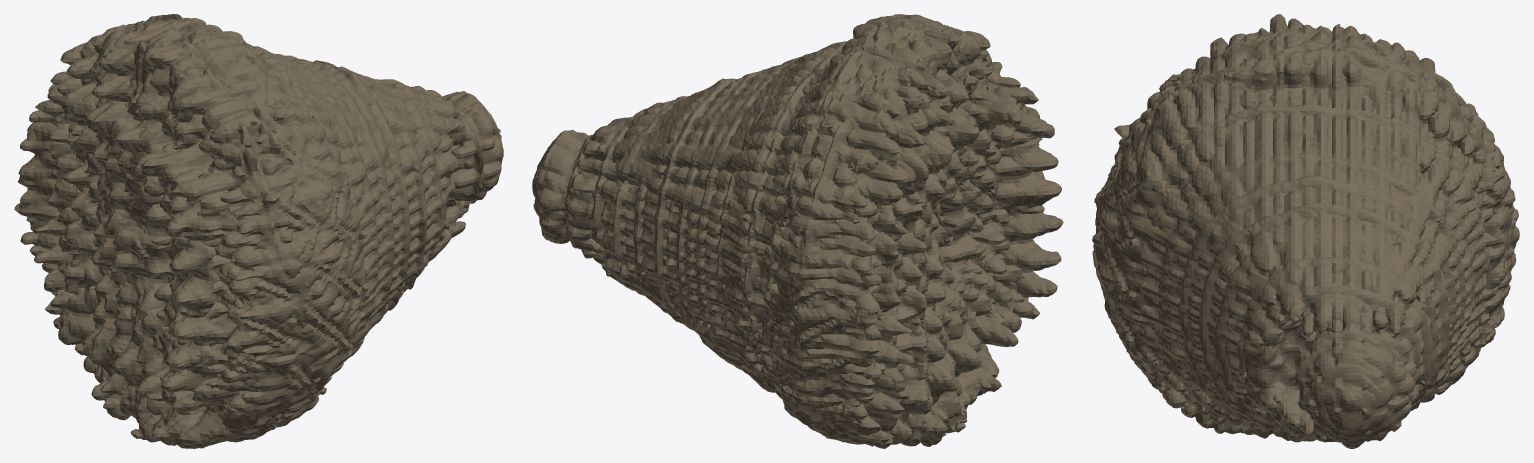
Rendered from raw.glb.
3 views of the same model, side by side, from view 1: azimuth 30°, elevation 25°; view 2: azimuth 150°, elevation 25°; view 3: azimuth 270°, elevation 25° (orthographic).
Parts seen in each view (by area): view 1: world; view 2: world; view 3: world.
Part boxes in pixels (x1,y1,x2,y2): world: (14,14,503,448); world: (532,14,1063,448); world: (1092,14,1519,448).
Bounding box in the file's own units: 1.6 × 1.43 × 1.38.
